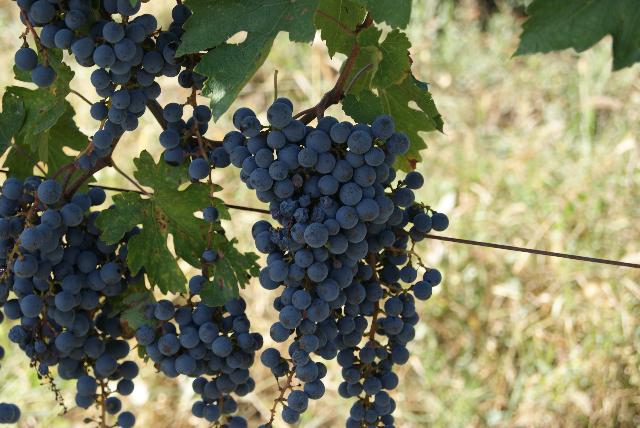grapes: (222, 98, 440, 420), (0, 176, 129, 404), (18, 0, 158, 150), (136, 298, 264, 426), (342, 294, 419, 424), (378, 206, 449, 300)
